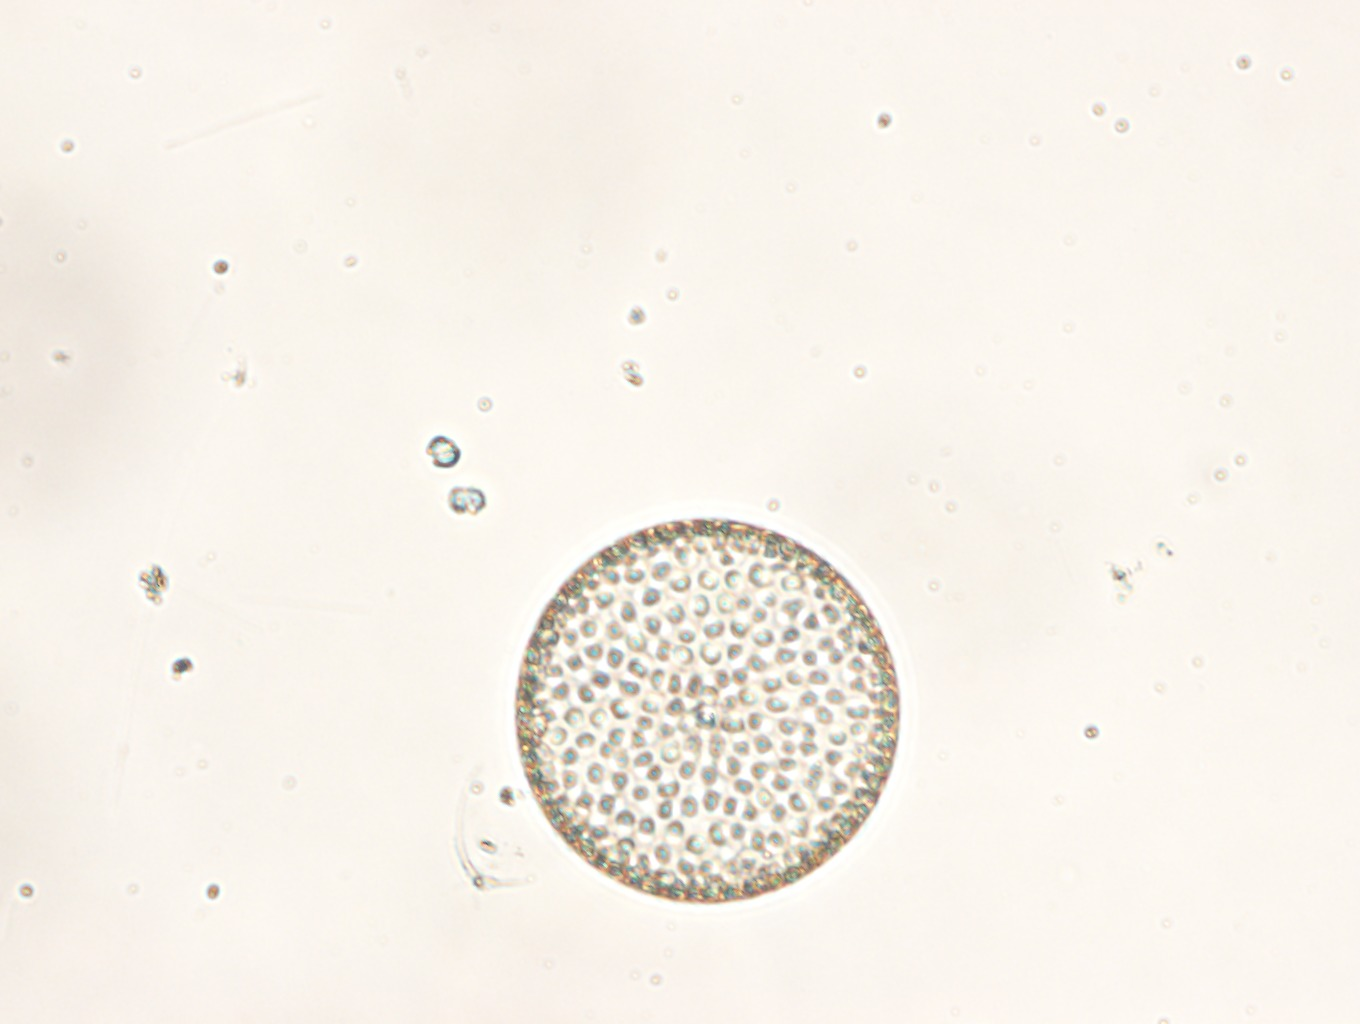coscinodiscus: (512, 517, 899, 905)
